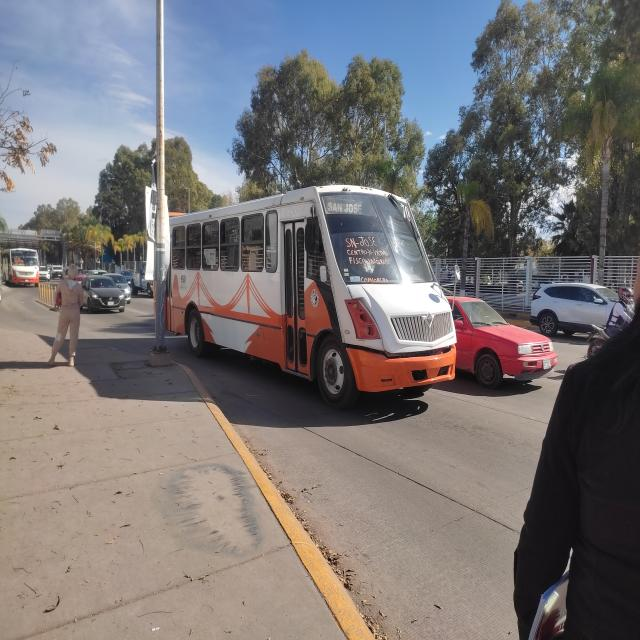Auto: (436, 268, 566, 406), (523, 270, 634, 343), (72, 251, 129, 321)
Autobus: (156, 182, 457, 413), (2, 232, 52, 294)
